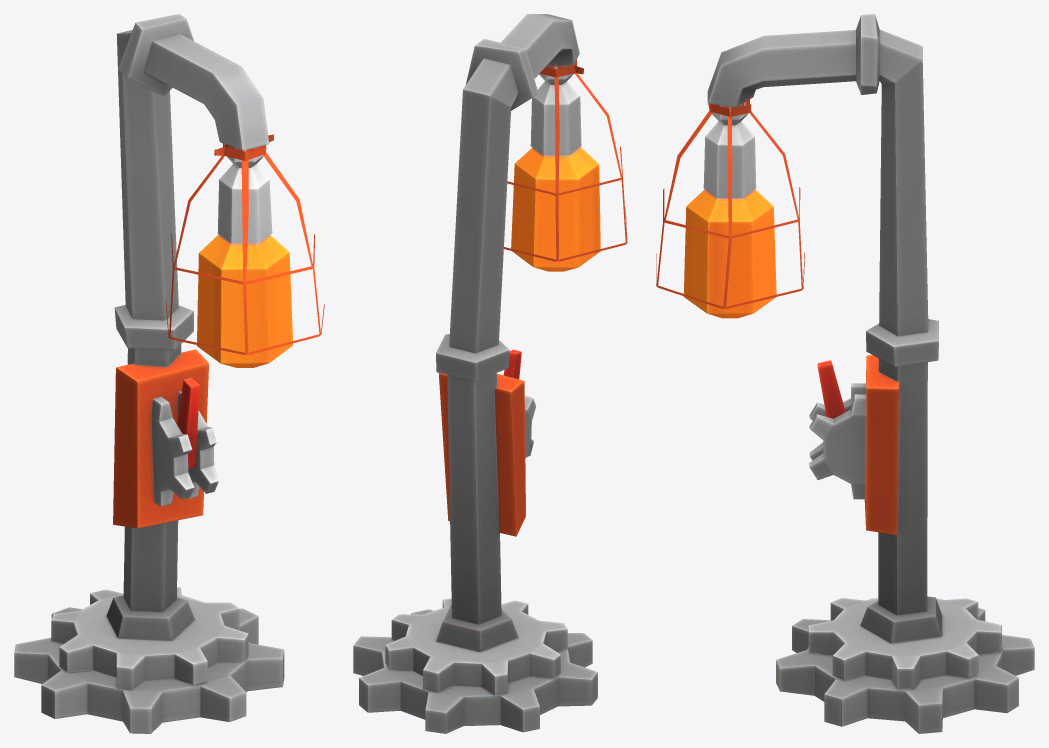
The model's file is obj_lamp02_base.gltf.
3 views of the same model, side by side, from view 1: azimuth 30°, elevation 25°; view 2: azimuth 150°, elevation 25°; view 3: azimuth 270°, elevation 25° (orthographic). The views are drawn at different scales.
Parts seen in each view (by area): view 1: obj_lamp02_base; view 2: obj_lamp02_base; view 3: obj_lamp02_base.
Boxes of the visible parts, x1,y1,x2,y2 form: obj_lamp02_base: (14, 14, 324, 733); obj_lamp02_base: (353, 14, 627, 733); obj_lamp02_base: (656, 14, 1034, 733).
Size of what is drawn, in the model's own units: 0.4032 by 1.12 by 0.5897.
Materials: 1 (1 with a texture image).
